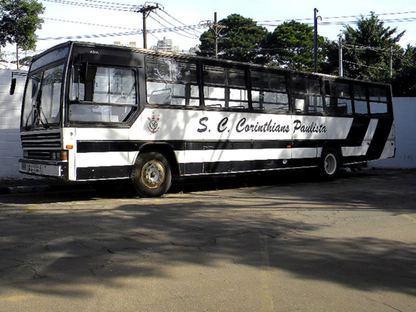bus: (9, 40, 397, 198)
